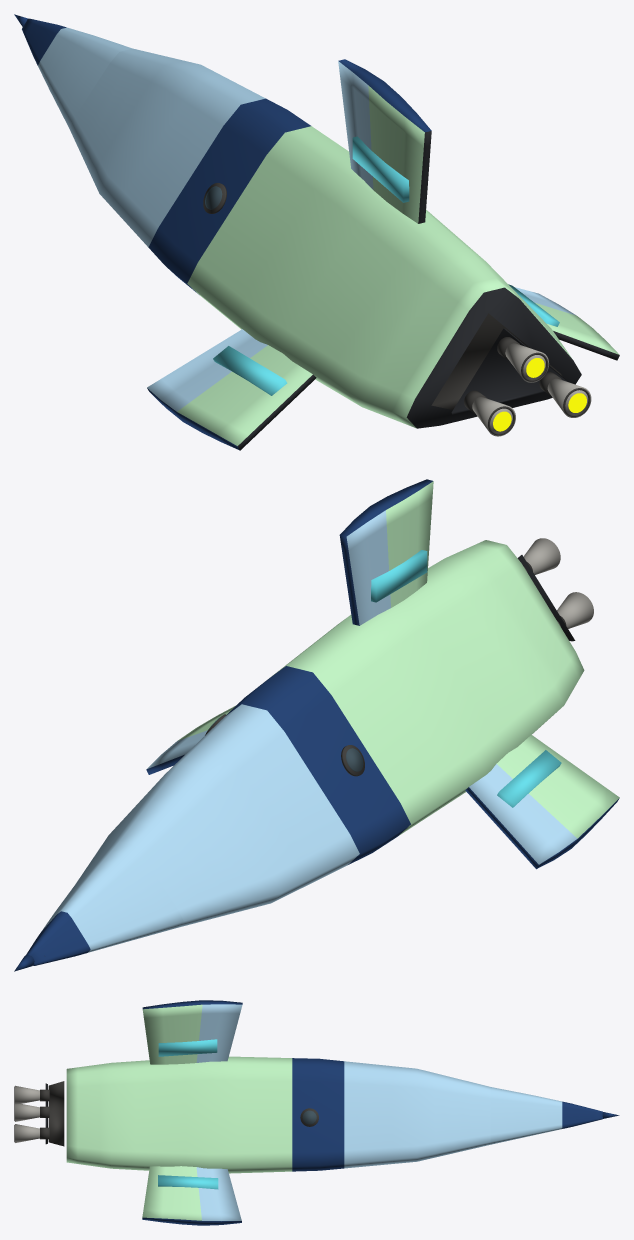
File: Ship_Standard_13.glb
3 views of the same model, one above another, from view 1: azimuth 30°, elevation 25°; view 2: azimuth 150°, elevation 25°; view 3: azimuth 270°, elevation 25° (orthographic). The views are drawn at different scales.
Parts seen in each view (by area): view 1: Fuselage_RoundedTriangleTriFoldBody, Wing_LowerLeft_TriFoldCornerBladePaintedMesh, Wing_Dorsal_TriFoldCornerBladePaintedMesh, Nose_RoundedTriangleTaperedForwardSection, EngineBlock_AftTriFoldTrimFrame, EngineBlock_AftTriangularIntegratedMountPlate, Wing_LowerRight_TriFoldCornerBladePaintedMesh, WingRootSocket_LowerLeft_IntegratedEmbeddedShoulder, WingRootSocket_Dorsal_IntegratedEmbeddedShoulder, EngineEmitter, EngineBell_LowerLeft_BurnishedNozzle, EngineBell_Dorsal_BurnishedNozzle (+1 smaller); view 2: Fuselage_RoundedTriangleTriFoldBody, Nose_RoundedTriangleTaperedForwardSection, Wing_LowerLeft_TriFoldCornerBladePaintedMesh, Wing_Dorsal_TriFoldCornerBladePaintedMesh, WingRootSocket_LowerLeft_IntegratedEmbeddedShoulder, WingRootSocket_Dorsal_IntegratedEmbeddedShoulder, Wing_LowerRight_TriFoldCornerBladePaintedMesh, EngineBell_Dorsal_BurnishedNozzle, EngineBell_LowerLeft_BurnishedNozzle; view 3: Fuselage_RoundedTriangleTriFoldBody, Wing_Dorsal_TriFoldCornerBladePaintedMesh, Wing_LowerRight_TriFoldCornerBladePaintedMesh, Nose_RoundedTriangleTaperedForwardSection, EngineBlock_AftTriangularIntegratedMountPlate, WingRootSocket_Dorsal_IntegratedEmbeddedShoulder, WingRootSocket_LowerRight_IntegratedEmbeddedShoulder, EngineBell_Dorsal_BurnishedNozzle, EngineBell_LowerRight_BurnishedNozzle, EngineBell_LowerLeft_BurnishedNozzle.
Part boxes in pixels (x1,y1,x2,y2): Fuselage_RoundedTriangleTriFoldBody: (69,48,581,428); Wing_LowerLeft_TriFoldCornerBladePaintedMesh: (147,329,316,450); Wing_Dorsal_TriFoldCornerBladePaintedMesh: (338,59,431,223); Nose_RoundedTriangleTaperedForwardSection: (22,18,132,127); EngineBlock_AftTriFoldTrimFrame: (451,328,569,414); EngineBlock_AftTriangularIntegratedMountPlate: (431,313,562,409); Wing_LowerRight_TriFoldCornerBladePaintedMesh: (514,287,619,360); WingRootSocket_LowerLeft_IntegratedEmbeddedShoulder: (213,346,287,395); WingRootSocket_Dorsal_IntegratedEmbeddedShoulder: (352,136,409,202); EngineEmitter: (493,358,586,431); EngineBell_LowerLeft_BurnishedNozzle: (472,397,515,436); EngineBell_Dorsal_BurnishedNozzle: (505,343,549,382); Fuselage_RoundedTriangleTriFoldBody: (76,540,584,927); Nose_RoundedTriangleTaperedForwardSection: (26,841,183,965); Wing_LowerLeft_TriFoldCornerBladePaintedMesh: (465,735,619,869); Wing_Dorsal_TriFoldCornerBladePaintedMesh: (339,479,433,625); WingRootSocket_LowerLeft_IntegratedEmbeddedShoulder: (497,750,561,807); WingRootSocket_Dorsal_IntegratedEmbeddedShoulder: (371,550,427,602); Wing_LowerRight_TriFoldCornerBladePaintedMesh: (146,705,235,774); EngineBell_Dorsal_BurnishedNozzle: (523,538,560,574); EngineBell_LowerLeft_BurnishedNozzle: (557,592,593,628); Fuselage_RoundedTriangleTriFoldBody: (66,1056,490,1173); Wing_Dorsal_TriFoldCornerBladePaintedMesh: (142,1000,242,1064); Wing_LowerRight_TriFoldCornerBladePaintedMesh: (142,1166,241,1225); Nose_RoundedTriangleTaperedForwardSection: (490,1087,602,1144); EngineBlock_AftTriangularIntegratedMountPlate: (48,1081,64,1146); WingRootSocket_Dorsal_IntegratedEmbeddedShoulder: (158,1039,217,1056); WingRootSocket_LowerRight_IntegratedEmbeddedShoulder: (158,1175,218,1189); EngineBell_Dorsal_BurnishedNozzle: (15,1085,39,1104); EngineBell_LowerRight_BurnishedNozzle: (15,1124,39,1142); EngineBell_LowerLeft_BurnishedNozzle: (15,1104,39,1121).
Bounding box in the file's own units: 3.73 × 2.61 × 8.51.
